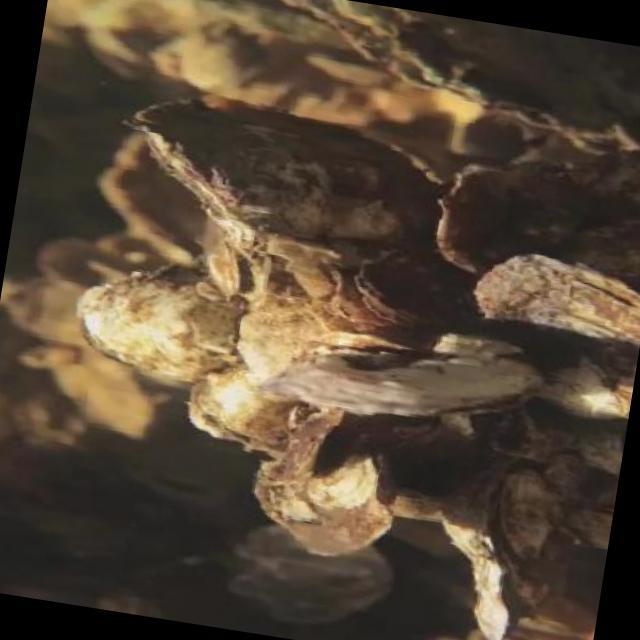Oyster- Indeterminate: (133, 99, 436, 302), (285, 0, 640, 151), (269, 343, 549, 417), (77, 261, 245, 381), (438, 164, 585, 274), (99, 133, 208, 261), (254, 456, 390, 555), (196, 365, 305, 446), (62, 356, 147, 438), (236, 307, 326, 378), (533, 353, 622, 420), (10, 276, 87, 347), (40, 238, 135, 292), (468, 557, 518, 640), (514, 600, 590, 640)
Oyster-Closed: (473, 254, 640, 346), (352, 250, 463, 331), (485, 459, 548, 560), (281, 412, 366, 478), (307, 329, 407, 360), (206, 237, 237, 295)
Oyster-Open: (135, 464, 234, 512)
